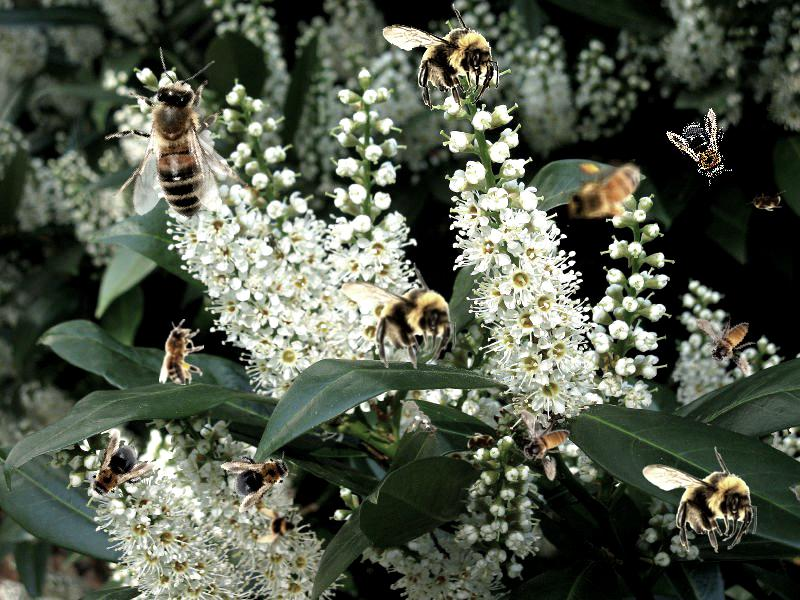Bee: (58, 26, 291, 258), (380, 1, 501, 114), (341, 262, 456, 369), (642, 446, 757, 553), (74, 429, 158, 515), (665, 106, 745, 192), (218, 438, 302, 514), (561, 159, 654, 227), (693, 302, 767, 387), (520, 410, 570, 481), (159, 319, 204, 385), (257, 506, 301, 550), (462, 432, 502, 454), (746, 190, 786, 212)
